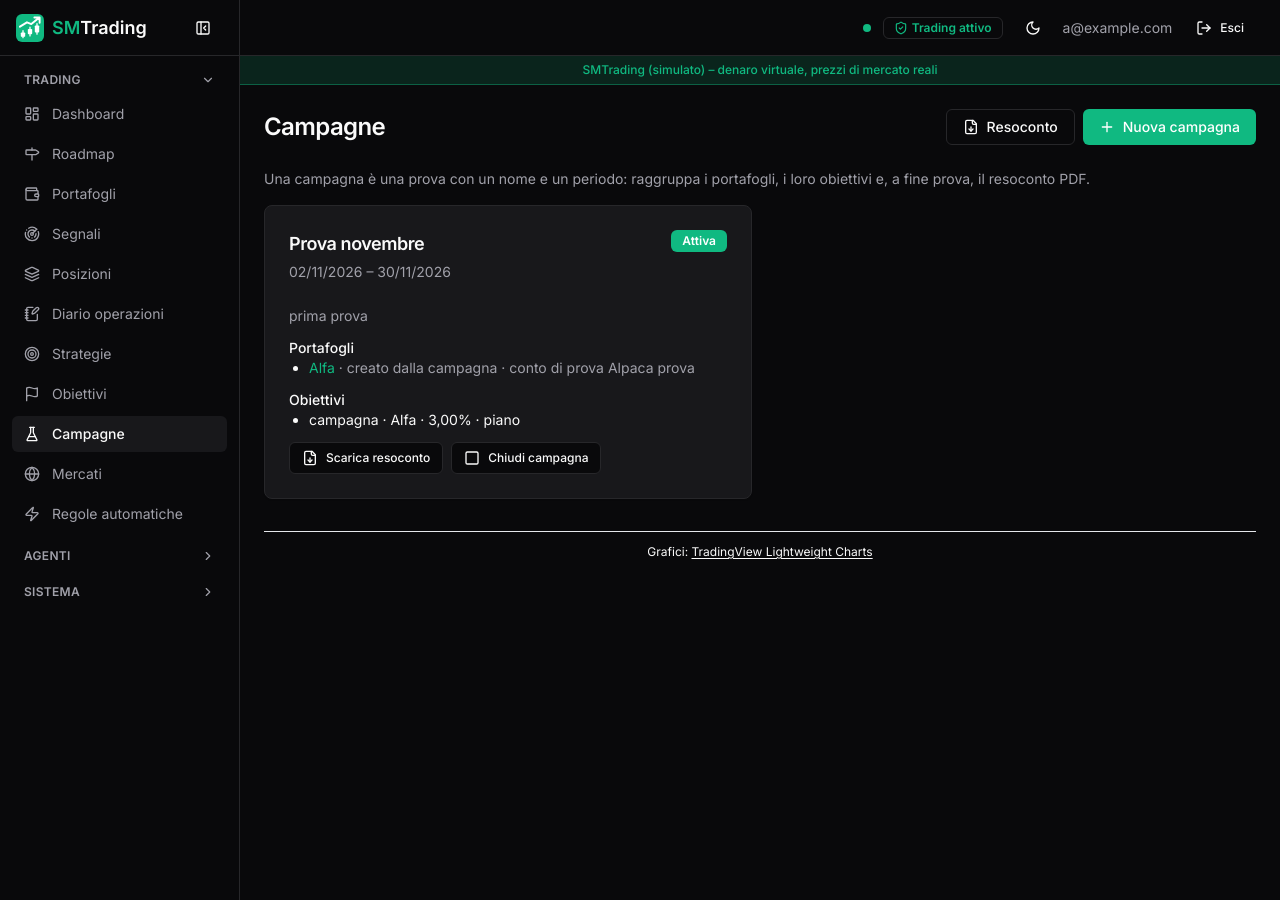
Test case: Campagne › closes a campaign: blockers shown, archive choices sent, final report offered
Click the button "Chiudi campagna" at (526, 458), box [451,442,602,474]
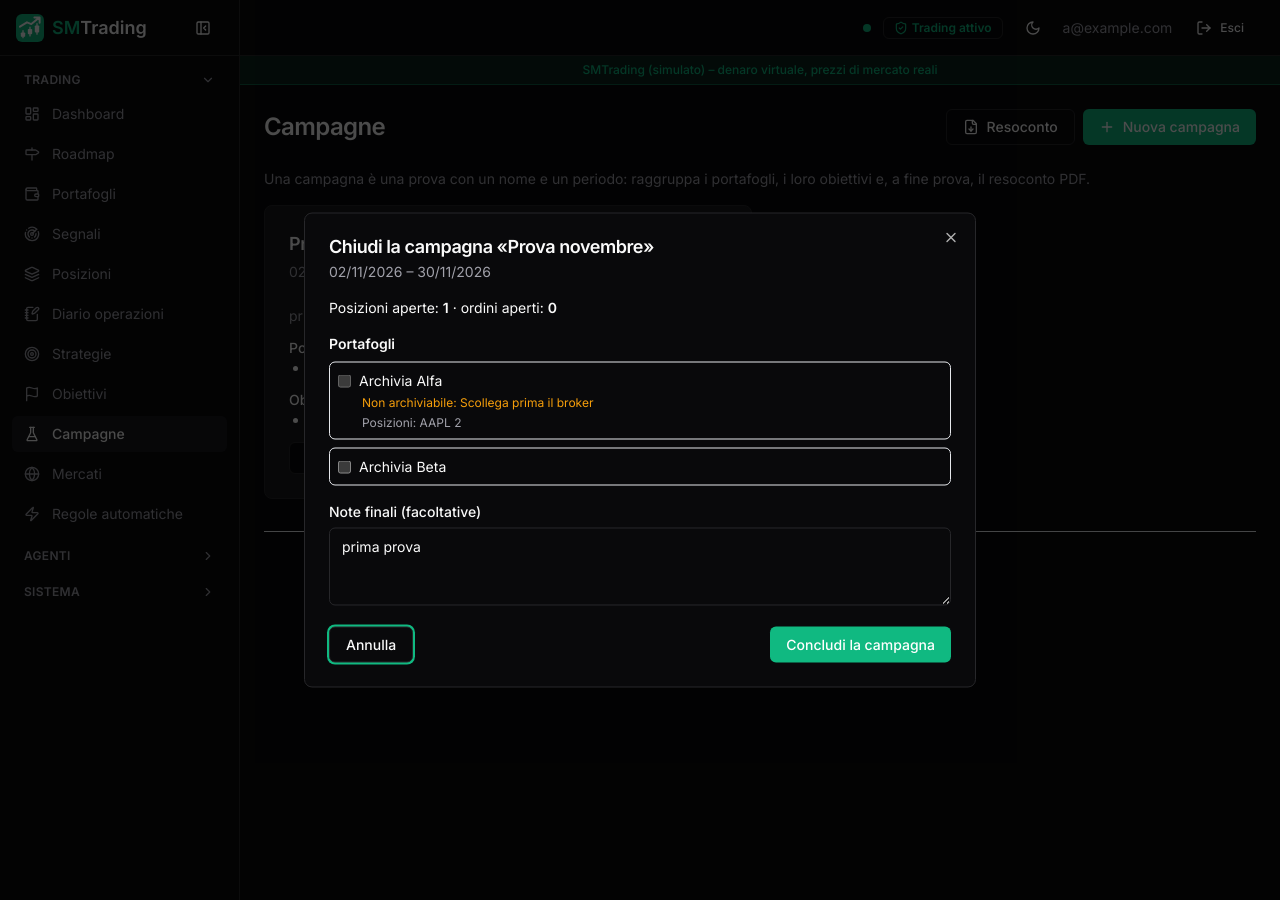
expect the text "Non archiviabile: Scollega prima il broker" is shown: met, box [362,394,593,410]
expect the checkbox labelled "Archivia Alfa" is disabled: met, box [338,374,351,387]
expect the text "Posizioni: AAPL 2" is shown: met, box [362,414,462,430]
Click the checkbox labelled "Archivia Beta" at (344, 466), box [338,460,351,473]
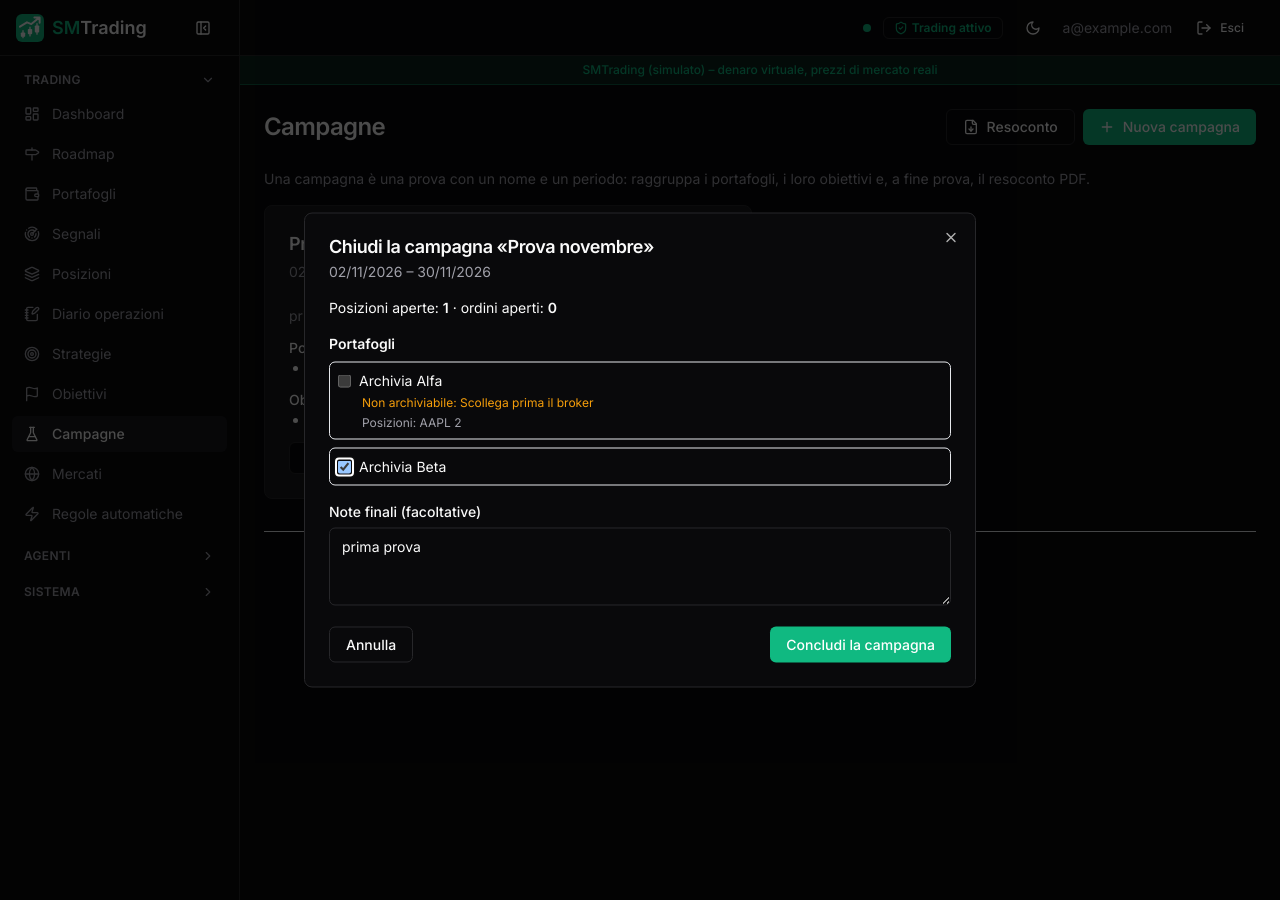
Click the button "Concludi la campagna" at (861, 644), box [770,626,951,662]
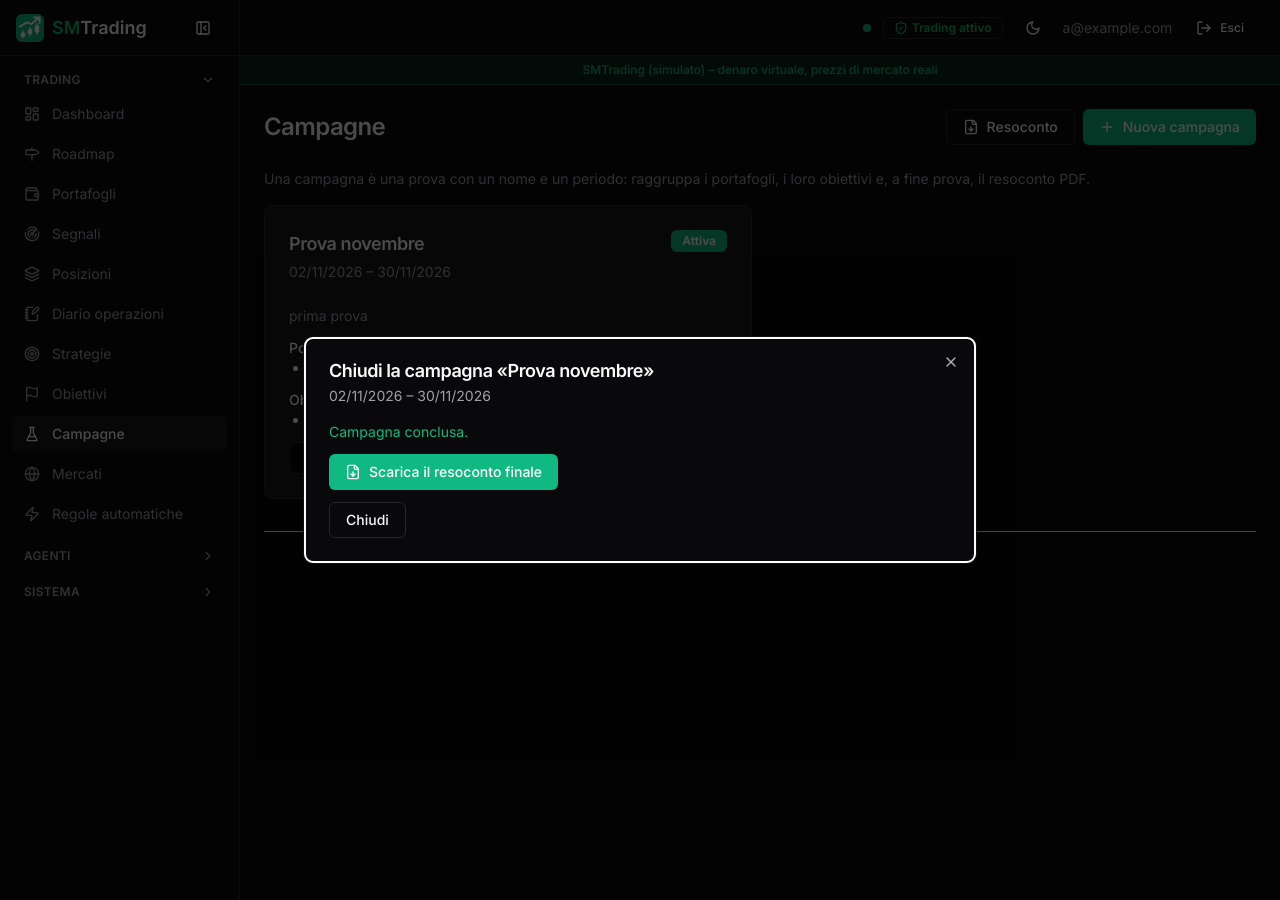
expect the text "Campagna conclusa." is shown: met, box [329,423,468,440]
